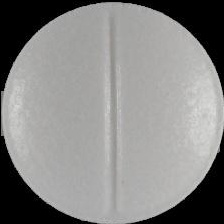50268-330: (0, 0, 224, 224)
